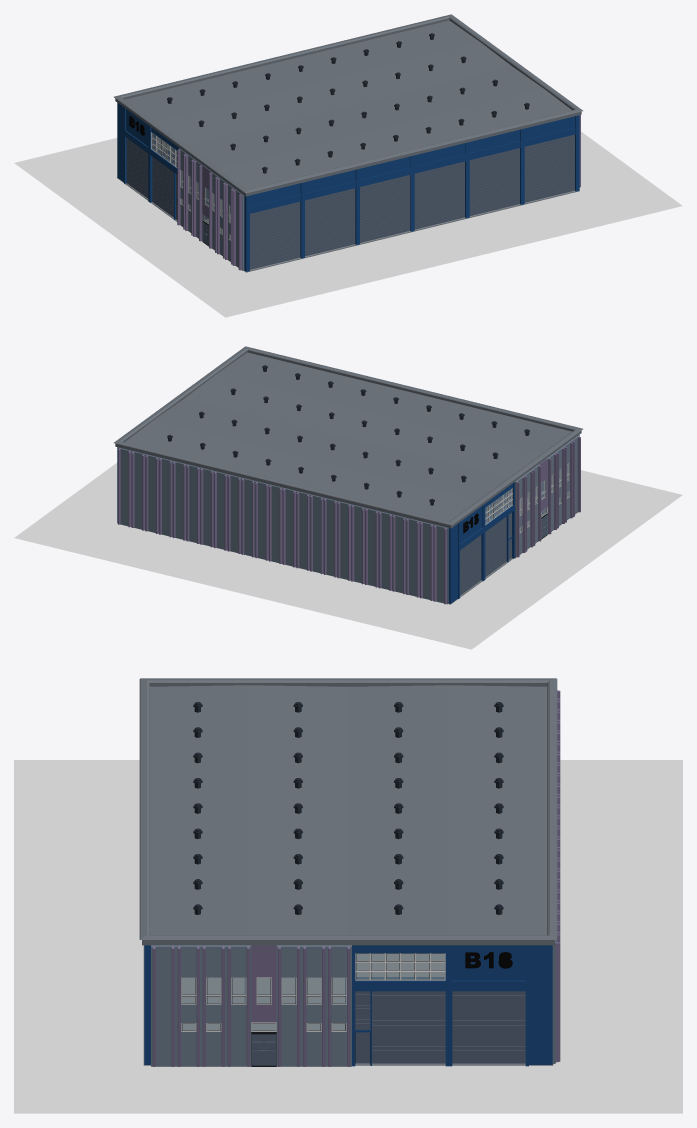
Rendered from B13_raw_export_v5.fbx.
The picture shows the model from 3 angles, top to bottom: view 1: azimuth 30°, elevation 25°; view 2: azimuth 150°, elevation 25°; view 3: azimuth 270°, elevation 25°; orthographic projection. The views are drawn at different scales.
Parts seen in each view (by area): view 1: B13 Roof Plane 001, B13_GroundPlane, B13_Roof_Lemez_Top_001, Box026, B13_MainShape_Line_004, Big-Gate007, Big-Gate002, Big-Gate003, Big-Gate004, Big-Gate005, Big-Gate006, Box025 (+11 smaller); view 2: B13 Roof Plane 001, B13_GroundPlane, B13_Roof_Lemez_Top_001, B13_MainShape_Line_004, TT-Concrete-Panel_040, TT-Concrete-Panel_030, TT-Concrete-Panel_037, TT-Concrete-Panel_033, TT-Concrete-Panel_018, TT-Concrete-Panel_026, TT-Concrete-Panel_036, TT-Concrete-Panel_022 (+25 smaller); view 3: B13_GroundPlane, B13 Roof Plane 001, B13_Roof_Lemez_Top_001, Big-Gate008, Big-Gate001, B13_MainShape_Line_002, B13_MainShape_Line_004, TT-Concrete-Panel_001, TT-Concrete-Panel_050, TT-Concrete-Panel_051, TT-Concrete-Panel_052, TT-Concrete-Panel_053 (+11 smaller).
Part boxes in pixels (left/top/right/bottom): B13 Roof Plane 001: left=125, top=20, right=571, bottom=189; B13_GroundPlane: left=14, top=131, right=682, bottom=317; B13_Roof_Lemez_Top_001: left=114, top=14, right=582, bottom=193; Box026: left=250, top=116, right=575, bottom=206; B13_MainShape_Line_004: left=115, top=18, right=581, bottom=196; Big-Gate007: left=250, top=201, right=300, bottom=269; Big-Gate002: left=524, top=134, right=574, bottom=202; Big-Gate003: left=469, top=148, right=519, bottom=215; Big-Gate004: left=414, top=161, right=464, bottom=229; Big-Gate005: left=360, top=175, right=410, bottom=242; Big-Gate006: left=305, top=188, right=355, bottom=256; Box025: left=250, top=127, right=575, bottom=213; B13 Roof Plane 001: left=125, top=352, right=571, bottom=521; B13_GroundPlane: left=14, top=463, right=682, bottom=649; B13_Roof_Lemez_Top_001: left=114, top=346, right=582, bottom=525; B13_MainShape_Line_004: left=115, top=350, right=581, bottom=528; TT-Concrete-Panel_040: left=433, top=524, right=448, bottom=604; TT-Concrete-Panel_030: left=296, top=491, right=310, bottom=570; TT-Concrete-Panel_037: left=392, top=514, right=406, bottom=594; TT-Concrete-Panel_033: left=337, top=501, right=351, bottom=580; TT-Concrete-Panel_018: left=131, top=451, right=145, bottom=530; TT-Concrete-Panel_026: left=241, top=477, right=255, bottom=557; TT-Concrete-Panel_036: left=378, top=511, right=392, bottom=590; TT-Concrete-Panel_022: left=186, top=464, right=200, bottom=543; B13_GroundPlane: left=14, top=760, right=682, bottom=1113; B13 Roof Plane 001: left=149, top=685, right=547, bottom=935; B13_Roof_Lemez_Top_001: left=139, top=678, right=557, bottom=939; Big-Gate008: left=372, top=991, right=445, bottom=1063; Big-Gate001: left=452, top=991, right=525, bottom=1063; B13_MainShape_Line_002: left=182, top=954, right=444, bottom=1029; B13_MainShape_Line_004: left=142, top=683, right=554, bottom=945; TT-Concrete-Panel_001: left=151, top=945, right=176, bottom=1066; TT-Concrete-Panel_050: left=326, top=945, right=351, bottom=1066; TT-Concrete-Panel_051: left=301, top=945, right=326, bottom=1066; TT-Concrete-Panel_052: left=276, top=945, right=301, bottom=1066; TT-Concrete-Panel_053: left=226, top=945, right=251, bottom=1066.
Bounding box in the file's own units: 5000 × 926 × 4000.
